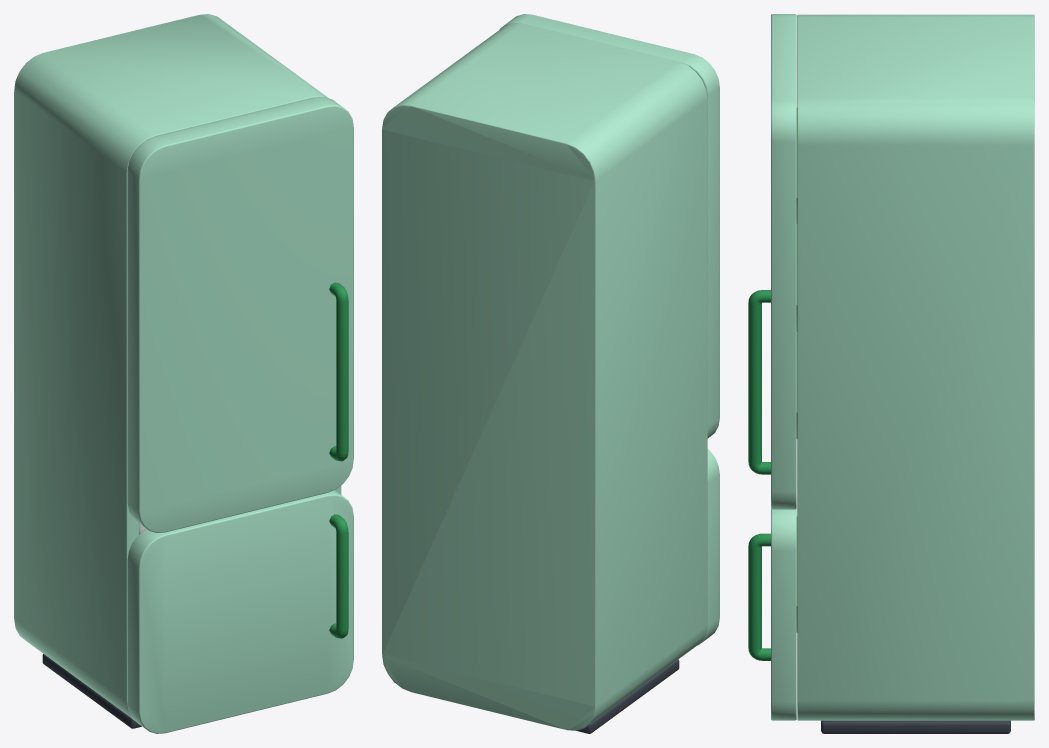
The model's file is geladeira_duas_portas_menta.glb.
The picture shows the model from 3 angles, left to right: view 1: azimuth 30°, elevation 25°; view 2: azimuth 150°, elevation 25°; view 3: azimuth 270°, elevation 25°; orthographic projection. The views are drawn at different scales.
Parts seen in each view (by area): view 1: porta_geladeira, geladeira_duas_portas_menta, porta_freezer; view 2: geladeira_duas_portas_menta, porta_geladeira, porta_freezer; view 3: geladeira_duas_portas_menta, porta_geladeira, porta_freezer.
Boxes of the visible parts, box(x1,y1,x2,y2) form: porta_geladeira: box(127, 97, 353, 532); geladeira_duas_portas_menta: box(14, 14, 341, 728); porta_freezer: box(127, 490, 353, 733); geladeira_duas_portas_menta: box(382, 23, 707, 733); porta_geladeira: box(499, 14, 719, 438); porta_freezer: box(697, 449, 719, 645); geladeira_duas_portas_menta: box(797, 14, 1034, 733); porta_geladeira: box(748, 14, 797, 509); porta_freezer: box(748, 509, 797, 720).
Bounding box in the file's own units: 0.66 × 1.76 × 0.724.
2 materials, 1 textured.
